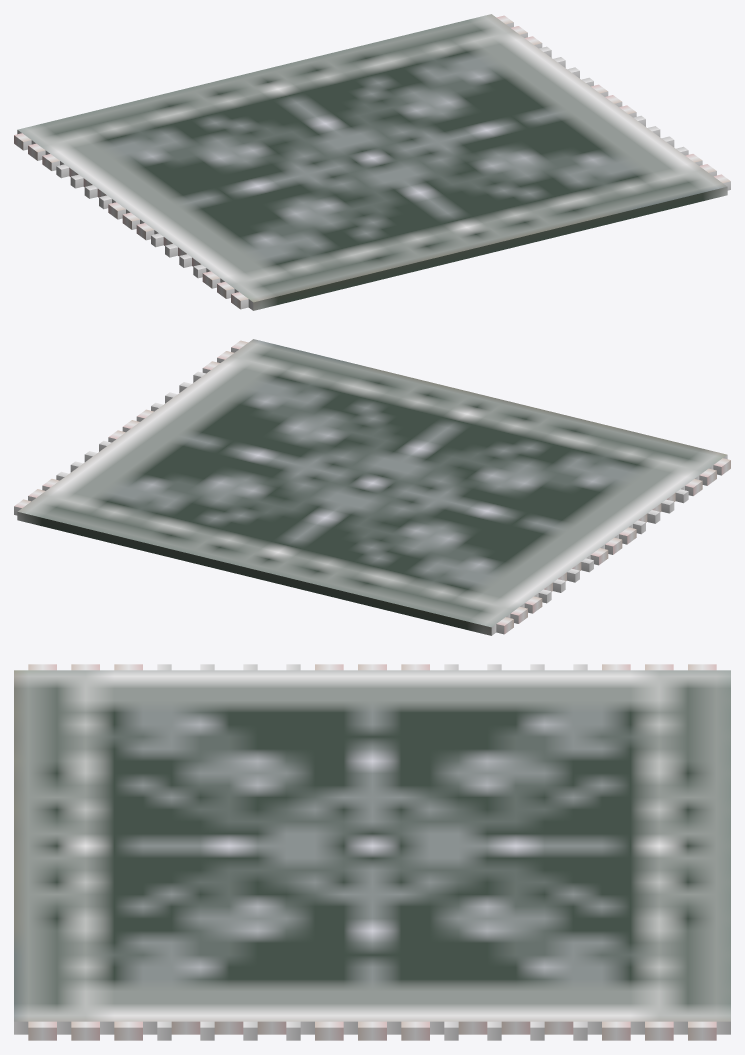
The model's file is CarpetDarkGreen_00.fbx.
3 renders of one model, top to bottom at view 1: azimuth 30°, elevation 25°; view 2: azimuth 150°, elevation 25°; view 3: azimuth 270°, elevation 25°, orthographic. The views are drawn at different scales.
Parts seen in each view (by area): view 1: CarpetDarkGreen_00; view 2: CarpetDarkGreen_00; view 3: CarpetDarkGreen_00.
Boxes of the visible parts, <box> form: CarpetDarkGreen_00: <box>14,14,730,310</box>; CarpetDarkGreen_00: <box>14,339,730,635</box>; CarpetDarkGreen_00: <box>14,664,730,1040</box>.
Size of the model in its own units: 300 by 250 by 5.
1 material, 1 textured.
